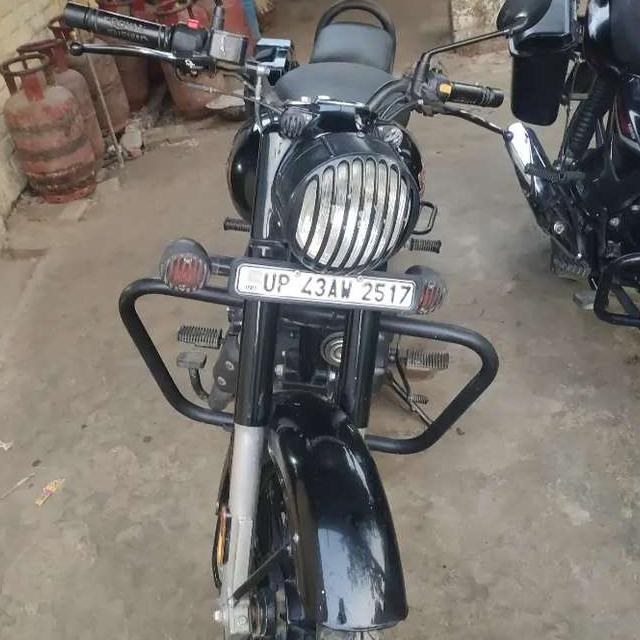Indian_Number_Plate: (235, 263, 419, 312)
